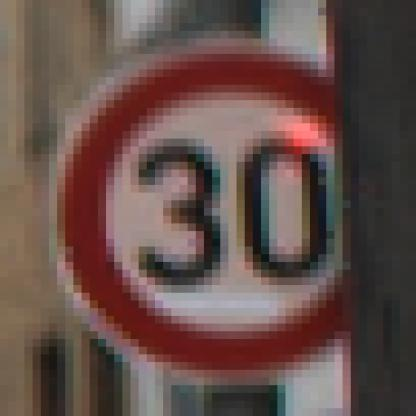Speed Limit 30: (59, 50, 348, 382)
